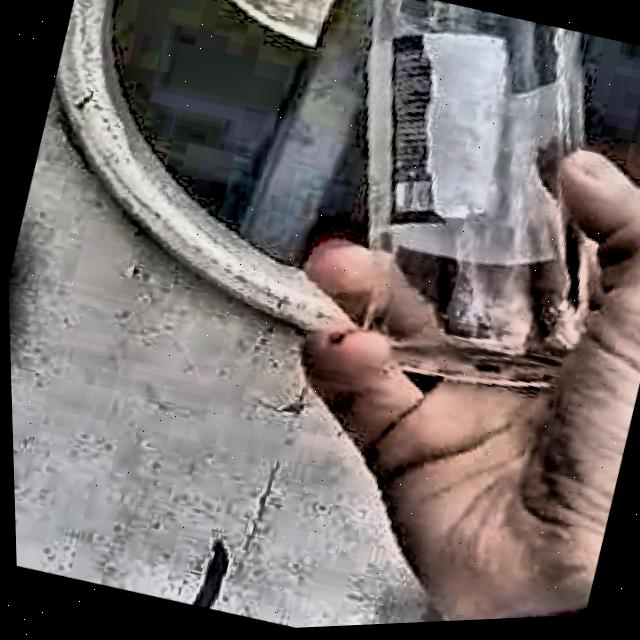glass: (360, 0, 586, 392)
